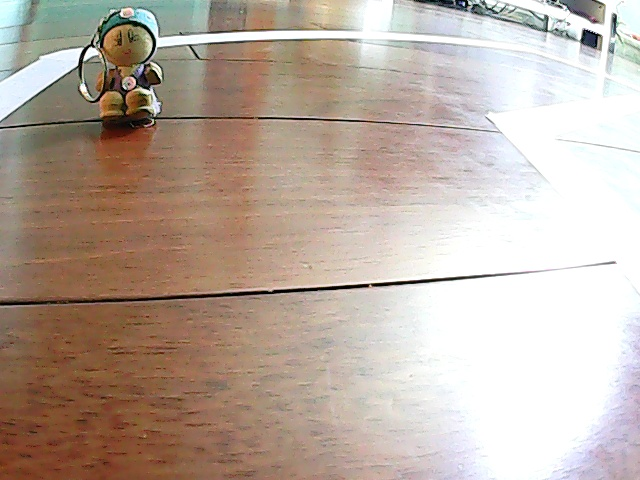pedestrain: (85, 5, 170, 119)
